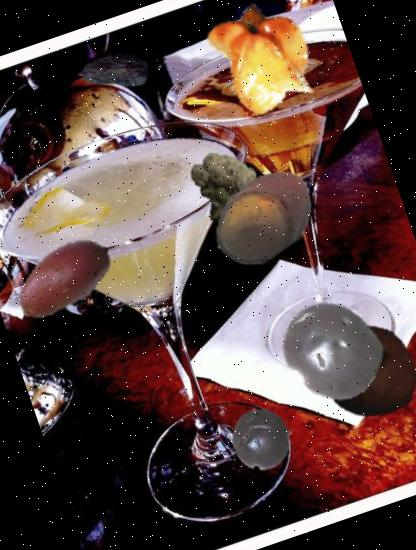Carambula: (188, 0, 341, 135)
Cauliflower: (176, 140, 274, 238)
Dates: (74, 28, 158, 113)
Hazelnut: (194, 146, 335, 288)
Passion: (265, 285, 396, 416), (223, 398, 302, 478)
Pear: (307, 309, 416, 436)
Potato: (0, 211, 132, 346)
